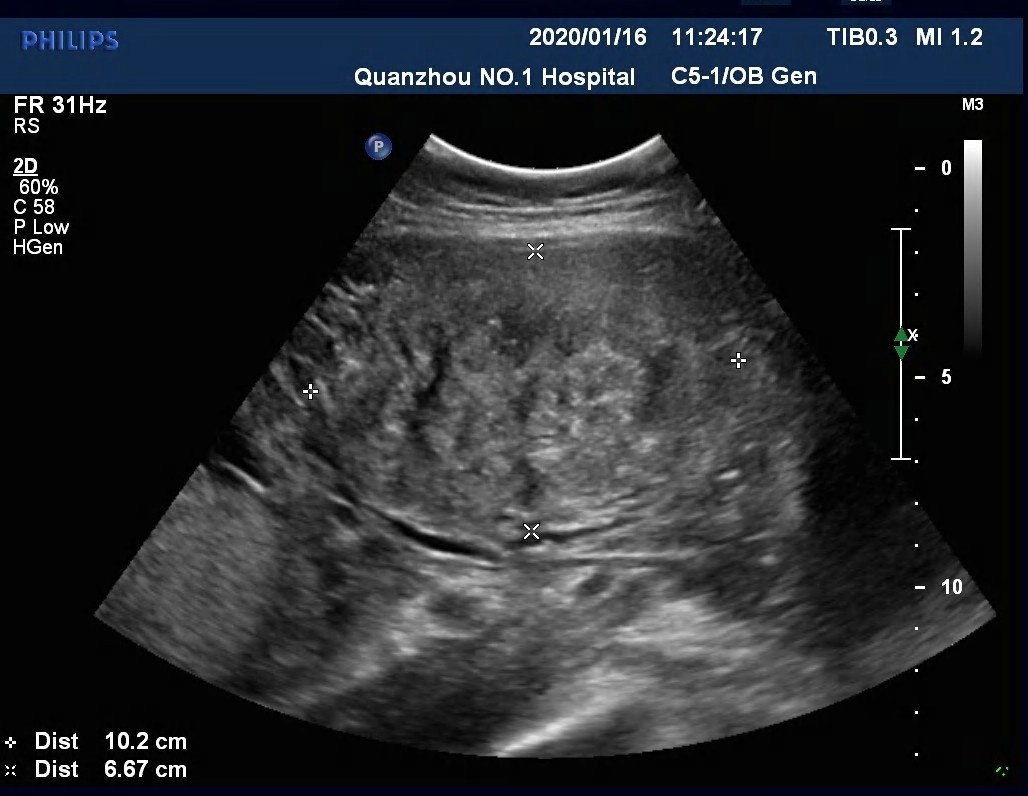肌瘤: (309, 251, 741, 539)
